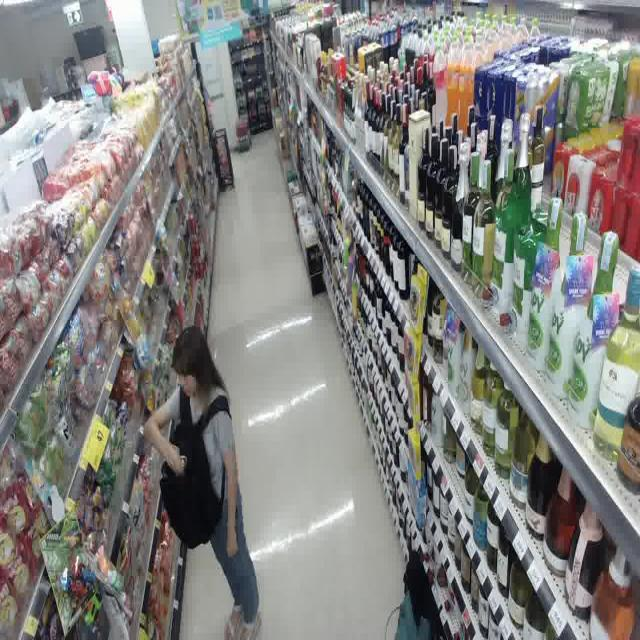shoplifting: (128, 313, 268, 640)
